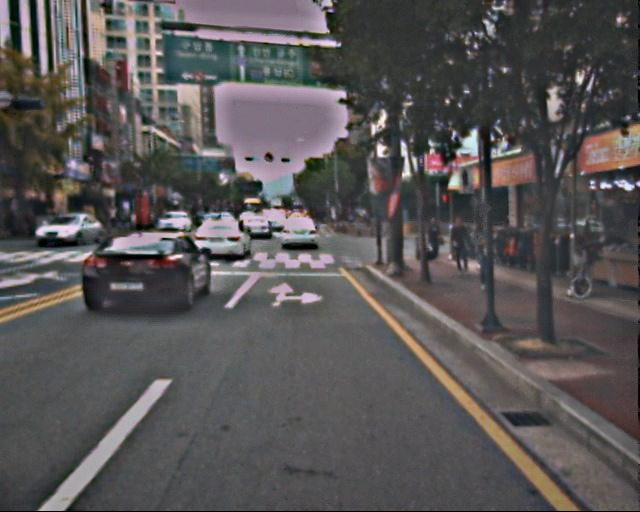person: (470, 219, 499, 292), (449, 217, 474, 279), (426, 214, 447, 265)
